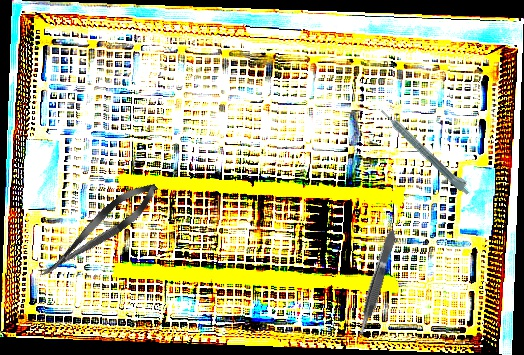Handpiece: (379, 104, 474, 197)
Micro Scissor: (32, 174, 165, 287)
Tissue Forceps: (352, 228, 401, 340)
